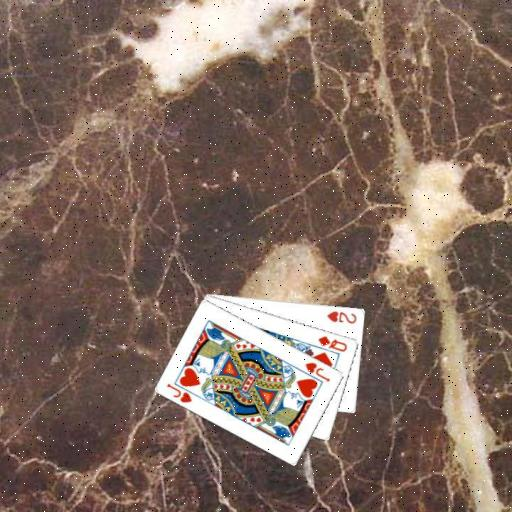2H: (325, 308, 359, 325)
JH: (303, 359, 332, 383), (165, 381, 194, 405)
QD: (315, 332, 349, 354)
